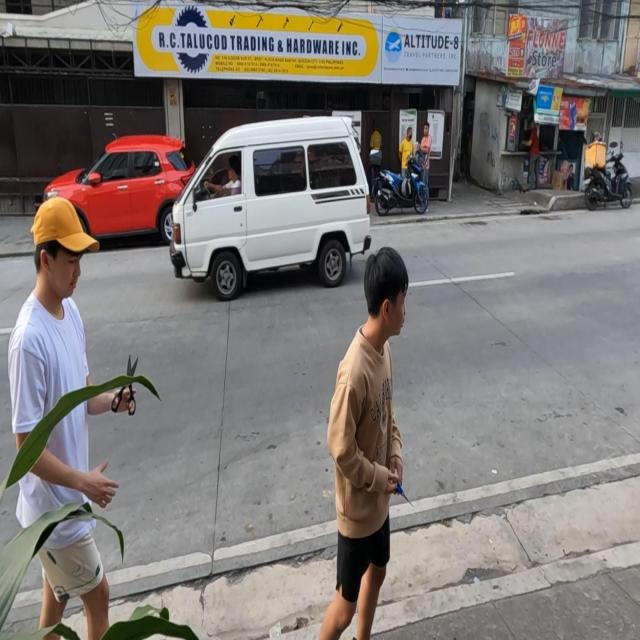scissor: (110, 353, 138, 418)
